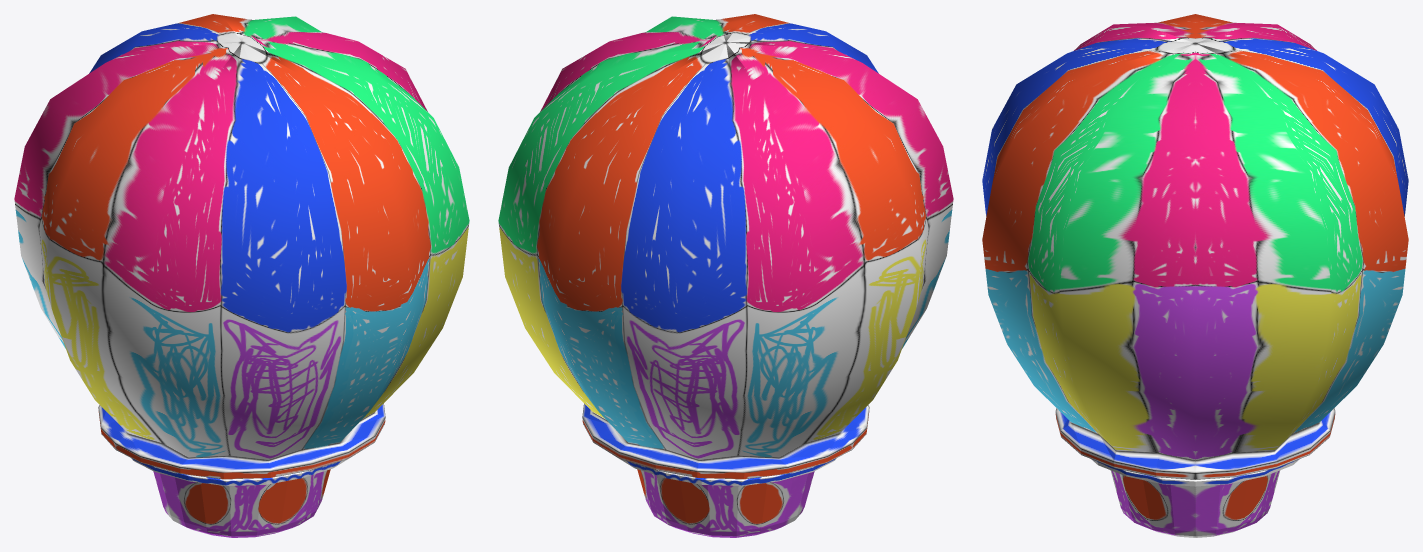
File: feichuan_E.FBX
3 renders of one model, left to right at view 1: azimuth 30°, elevation 25°; view 2: azimuth 150°, elevation 25°; view 3: azimuth 270°, elevation 25°, orthographic.
Visible parts, largest first — view 1: feichuan_E; view 2: feichuan_E; view 3: feichuan_E.
Part boxes in pixels (x1=…): feichuan_E: x1=14, y1=14, x2=469, y2=537; feichuan_E: x1=498, y1=14, x2=953, y2=537; feichuan_E: x1=982, y1=14, x2=1408, y2=537.
Size of the model in its own units: 130 by 149 by 124.
Materials: 1 (1 with a texture image).
